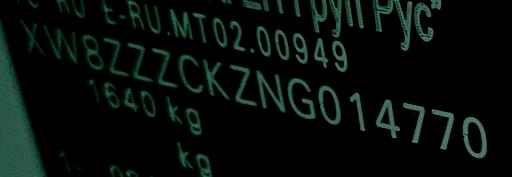letter: (41, 21, 79, 66), (284, 75, 318, 122), (199, 54, 233, 101), (226, 61, 260, 108), (254, 67, 288, 114), (14, 15, 48, 60), (148, 43, 180, 90), (124, 39, 156, 84), (460, 113, 490, 159), (370, 97, 402, 139), (100, 35, 130, 79), (174, 50, 204, 93), (399, 99, 427, 144), (427, 106, 455, 151), (316, 82, 342, 127), (80, 31, 106, 72), (346, 90, 368, 133)
